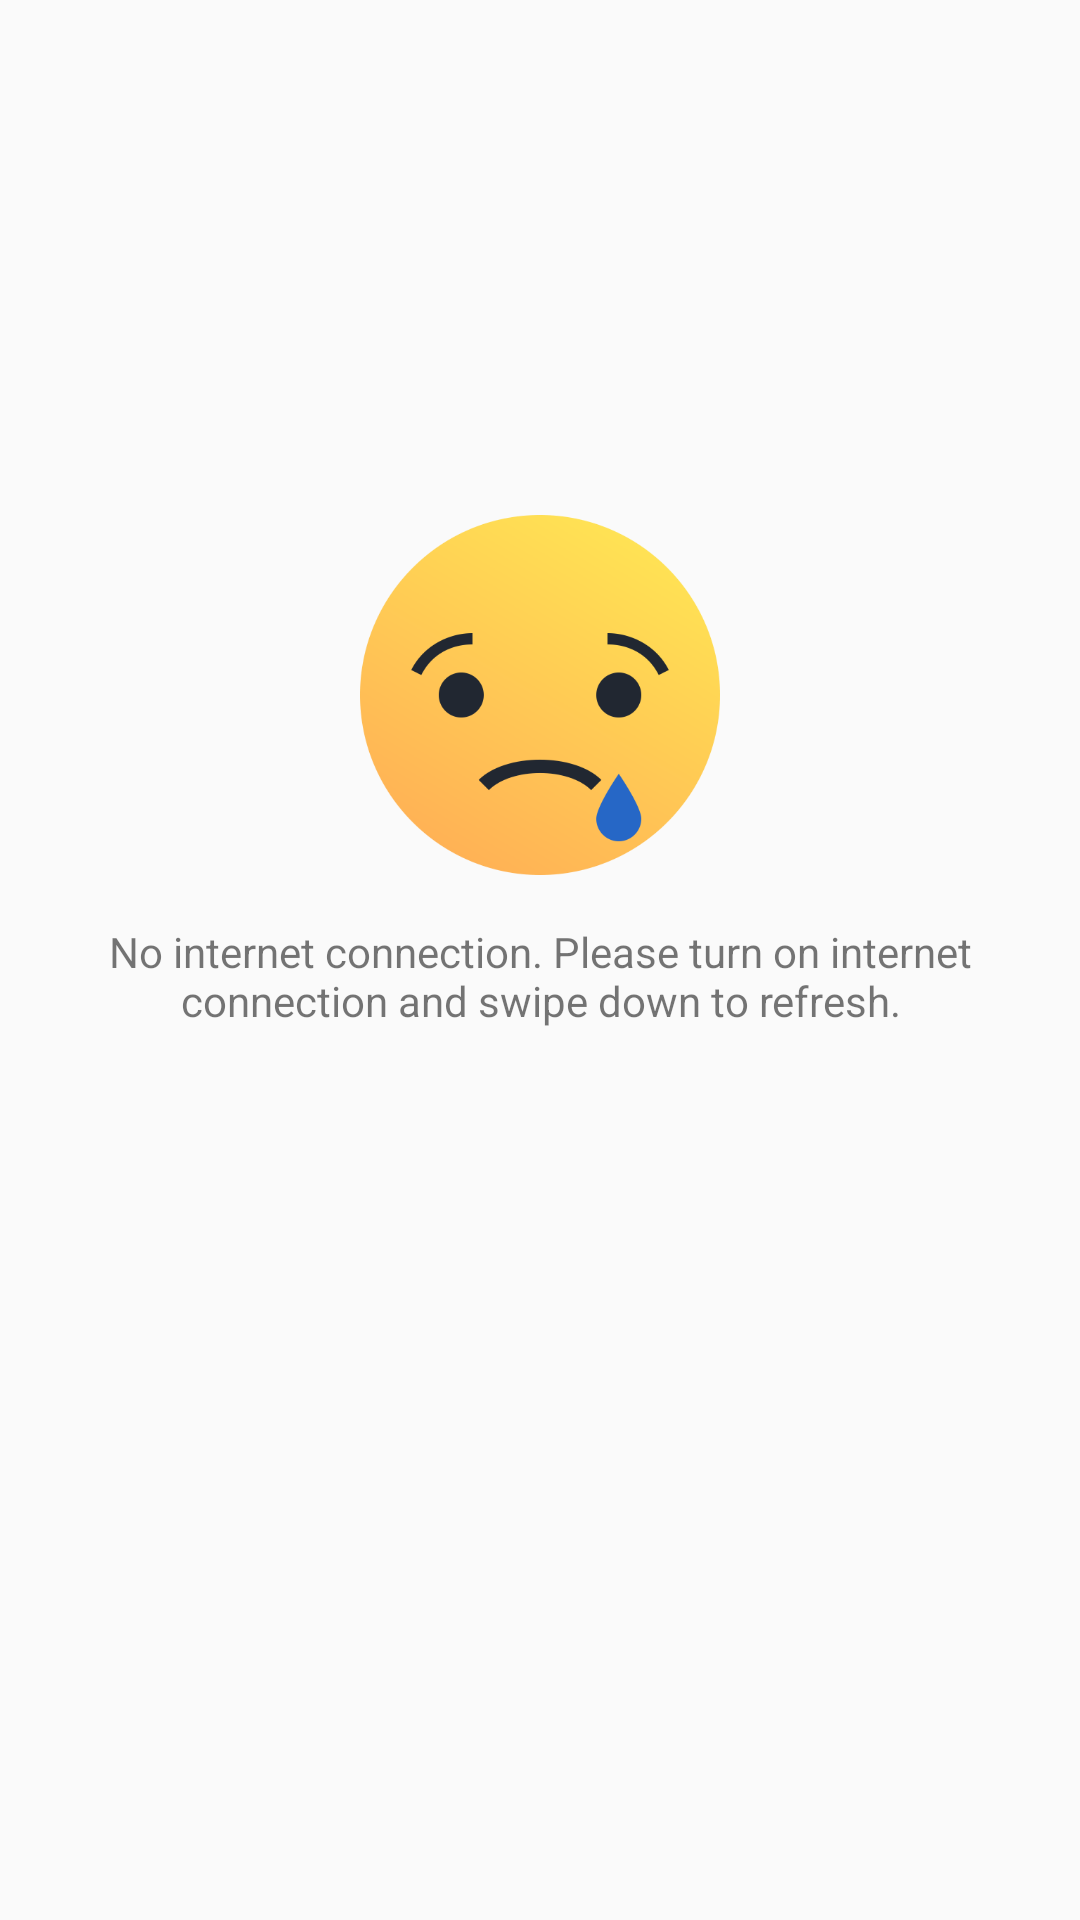

Icons on this 1080 × 1920 Android screen, each with the point to tap as (x=x, y=y):
sad emoji: (x=540, y=695)
